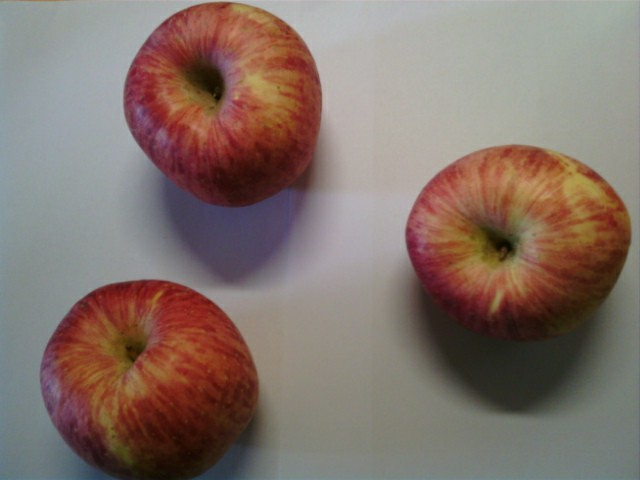normal_apple: (405, 144, 635, 337), (40, 278, 259, 480), (123, 1, 324, 210)
